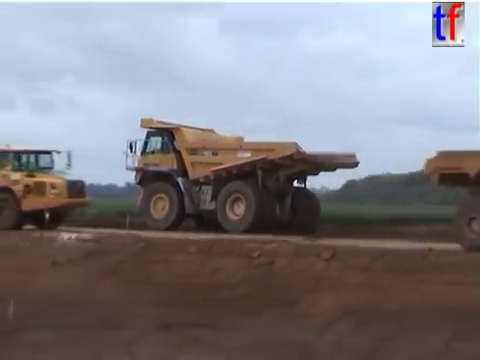truck: (120, 115, 362, 237), (1, 141, 92, 233), (420, 147, 480, 256)
